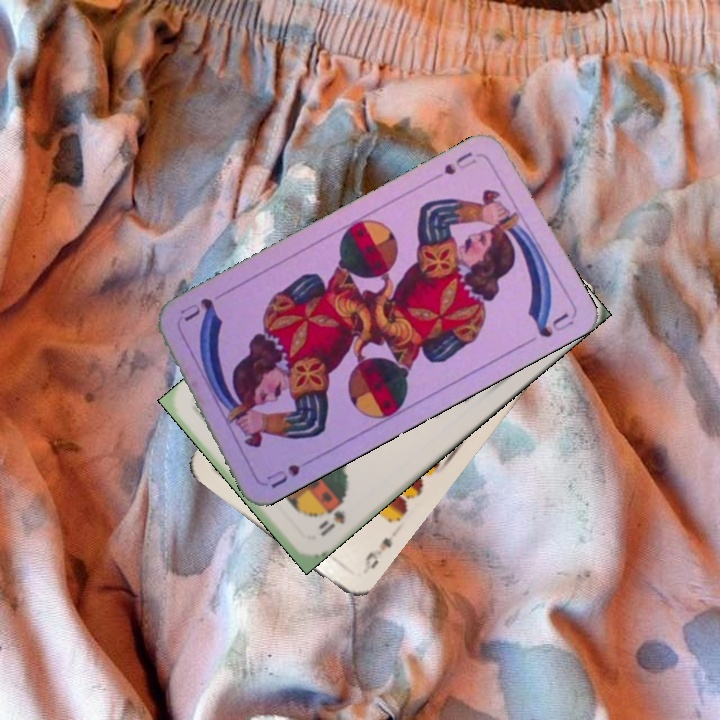E9: (358, 533, 395, 577)
SO: (314, 497, 348, 539)
SU: (263, 452, 317, 491), (440, 147, 479, 178)
